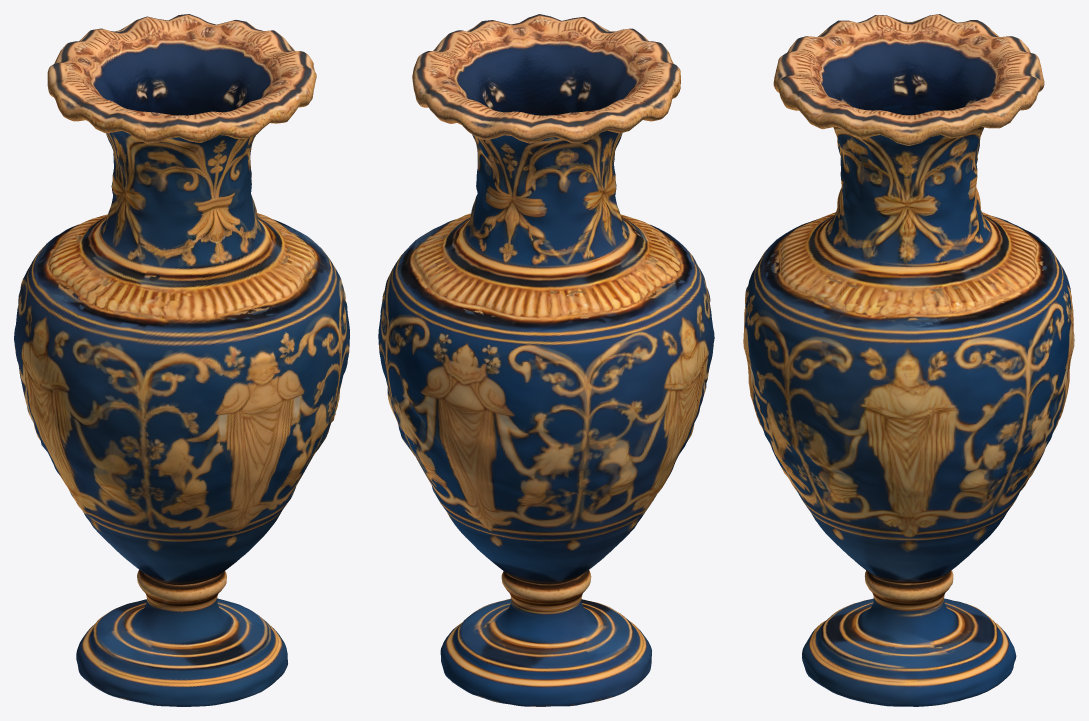
The model's file is Meshy_AI_Roman_Vase_0518230106_texture.fbx.
3 views of the same model, side by side, from view 1: azimuth 30°, elevation 25°; view 2: azimuth 150°, elevation 25°; view 3: azimuth 270°, elevation 25° (orthographic).
Visible parts, largest first — view 1: input; view 2: input; view 3: input.
Boxes of the visible parts, <box> form: input: <box>14,14,349,706</box>; input: <box>378,14,714,706</box>; input: <box>743,14,1074,706</box>.
Bounding box in the file's own units: 97.33 × 191 × 95.67.
Materials: 1 (1 with a texture image).
